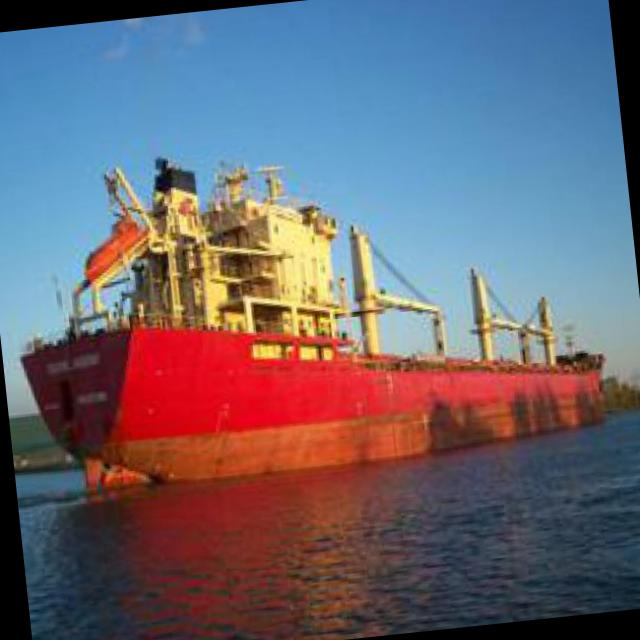boat: (24, 162, 612, 492)
